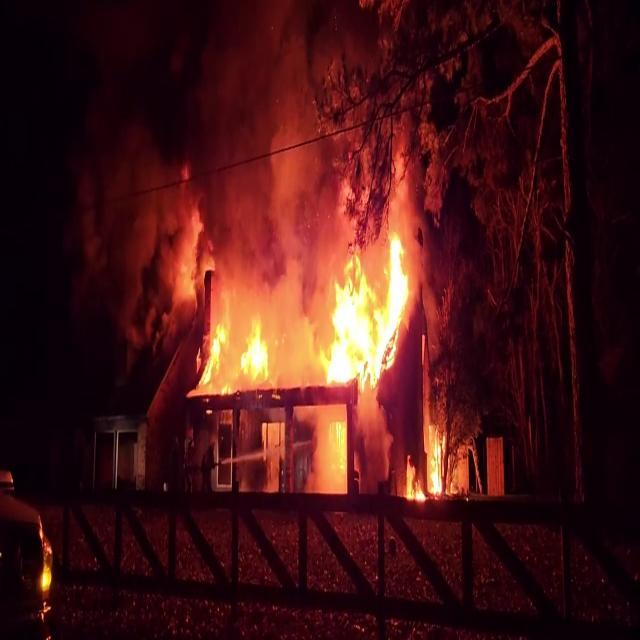Fire: (312, 224, 415, 388), (188, 294, 274, 398), (404, 412, 451, 506), (33, 518, 59, 617)
Smoke: (121, 0, 343, 280)
